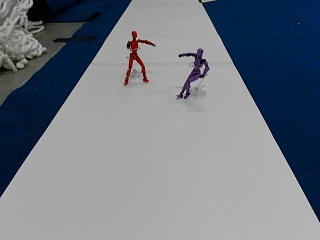pedestrian: (124, 30, 156, 85), (177, 46, 208, 98)
